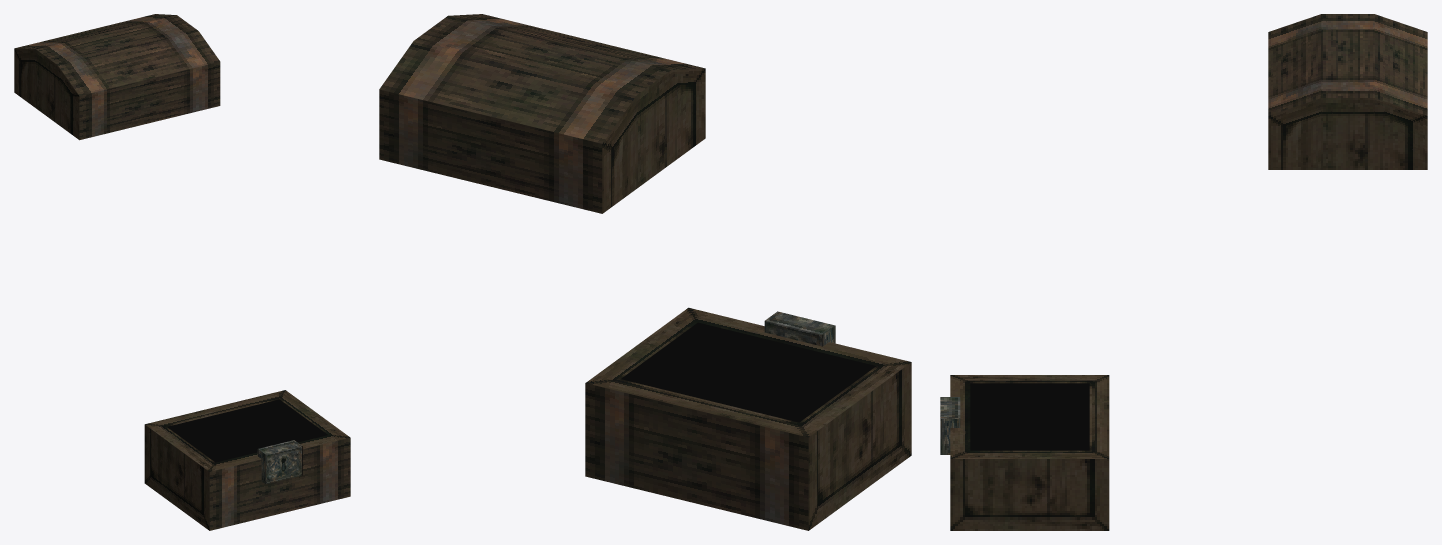
Rendered from chest.glb.
3 views of the same model, side by side, from view 1: azimuth 30°, elevation 25°; view 2: azimuth 150°, elevation 25°; view 3: azimuth 270°, elevation 25° (orthographic). The views are drawn at different scales.
Visible parts, largest first — view 1: Cube.045, Cube.085; view 2: Cube.045, Cube.085; view 3: Cube.045, Cube.085.
Boxes of the visible parts, x1,y1,x2,y2 form: Cube.045: [144, 390, 350, 530]; Cube.085: [14, 14, 220, 140]; Cube.045: [585, 307, 911, 530]; Cube.085: [379, 14, 705, 213]; Cube.045: [940, 375, 1109, 530]; Cube.085: [1268, 14, 1427, 169].
Size of the model in its own units: 2 by 4.81 by 4.9.
1 material, 1 textured.
